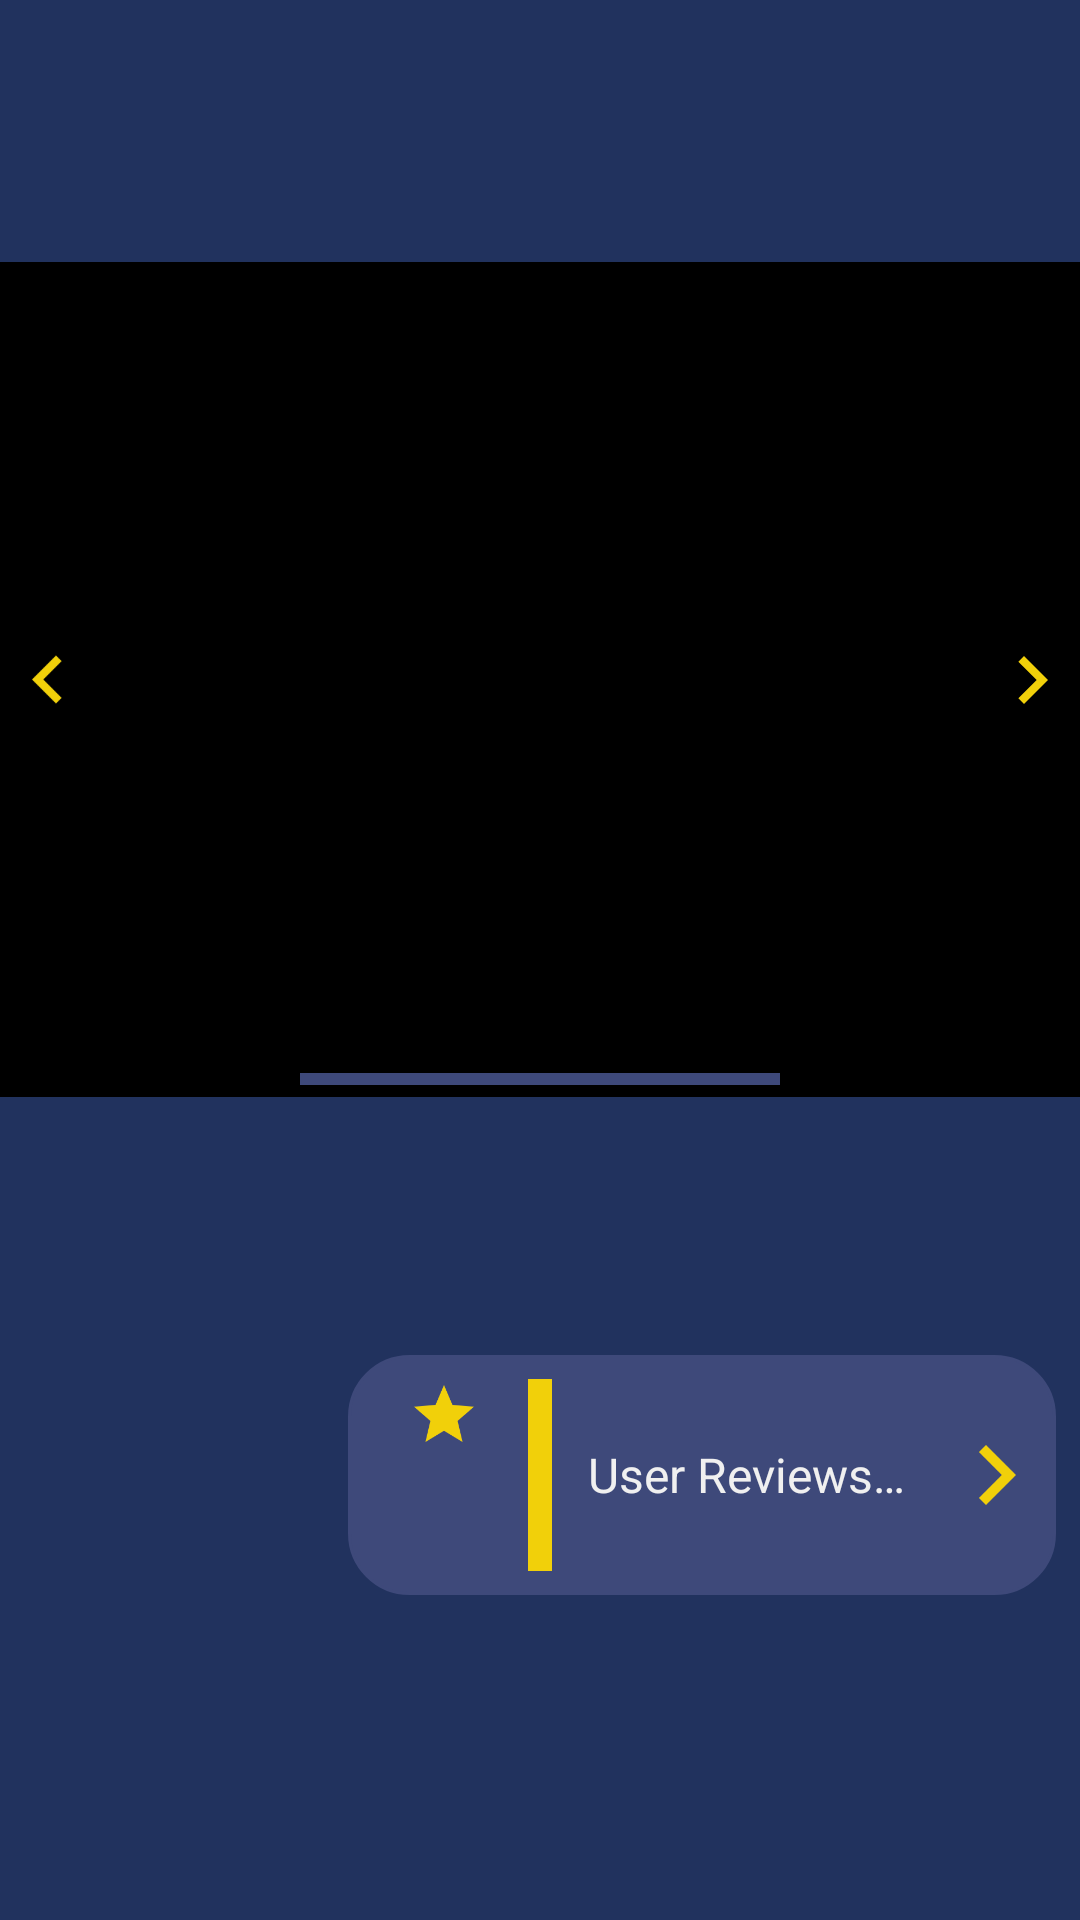

Named icons in this screenshot (1080w x 1920h) and their bounding boxes, (x1, y1, x2, y2):
left arrow: (32, 655, 62, 704)
right arrow: (1018, 656, 1048, 704), (979, 1445, 1016, 1505)
star: (414, 1385, 474, 1442)
